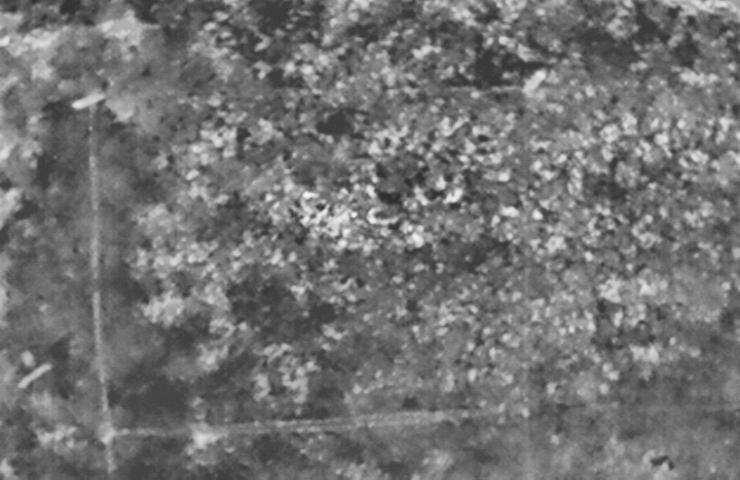landmines: (299, 191, 359, 239)
